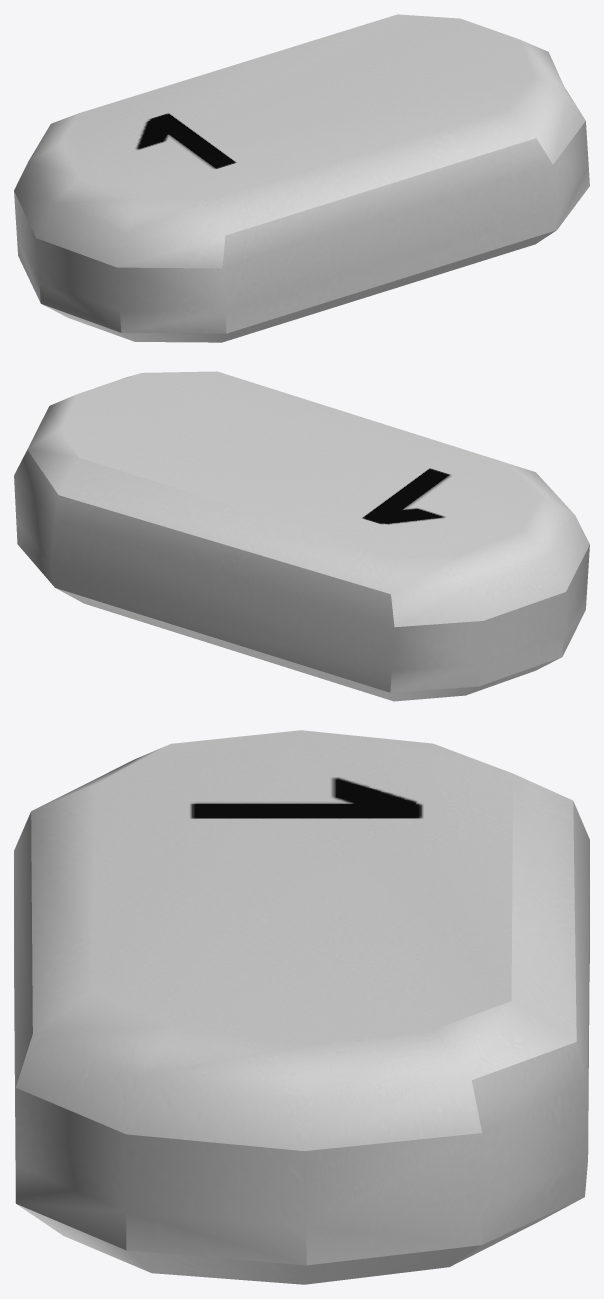
Rendered from blank1_button.glb.
The picture shows the model from 3 angles, top to bottom: view 1: azimuth 30°, elevation 25°; view 2: azimuth 150°, elevation 25°; view 3: azimuth 270°, elevation 25°; orthographic projection. The views are drawn at different scales.
Parts seen in each view (by area): view 1: blank1_button; view 2: blank1_button; view 3: blank1_button.
Part boxes in pixels (x1,y1,x2,y2): blank1_button: (14, 14, 589, 342); blank1_button: (14, 371, 589, 701); blank1_button: (14, 730, 589, 1284).
Bounding box in the file's own units: 0.00277 × 0.000842 × 0.00156.
1 material, 1 textured.
